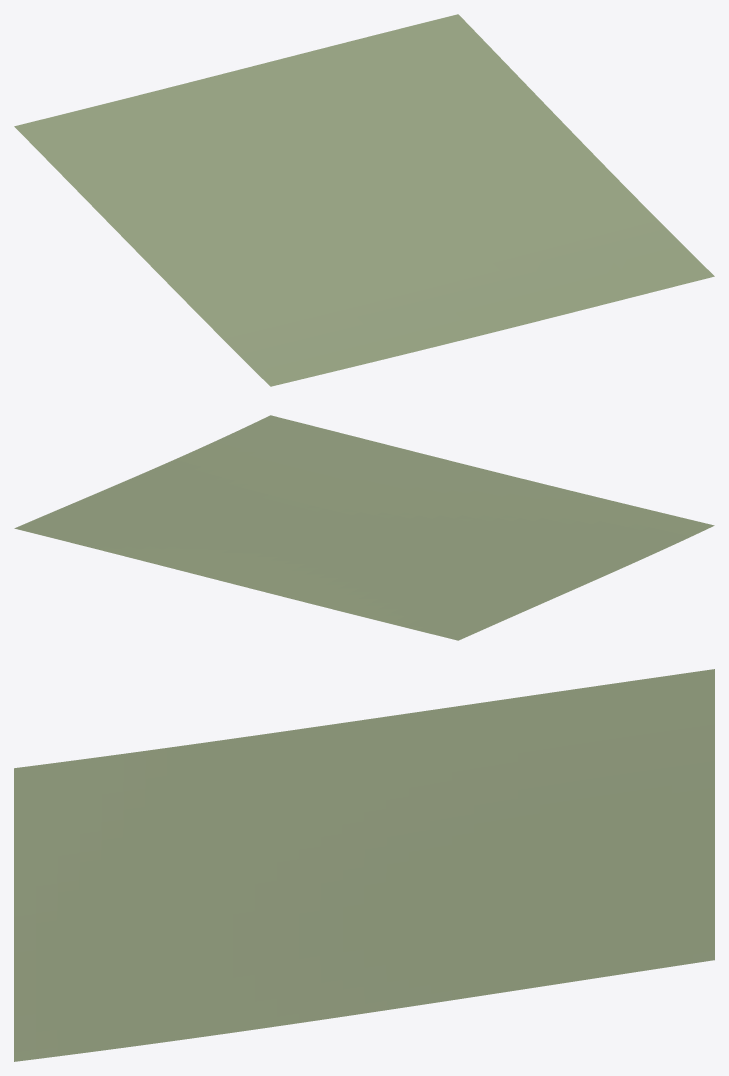
Rendered from desert-27-11.glb.
3 renders of one model, top to bottom at view 1: azimuth 30°, elevation 25°; view 2: azimuth 150°, elevation 25°; view 3: azimuth 270°, elevation 25°, orthographic. The views are drawn at different scales.
Parts seen in each view (by area): view 1: desert-27-11; view 2: desert-27-11; view 3: desert-27-11.
Part boxes in pixels (bbox=[...]): desert-27-11: bbox=[14, 14, 714, 386]; desert-27-11: bbox=[14, 415, 714, 640]; desert-27-11: bbox=[14, 669, 714, 1061].
Size of the model in its own units: 512 by 84.44 by 512.
